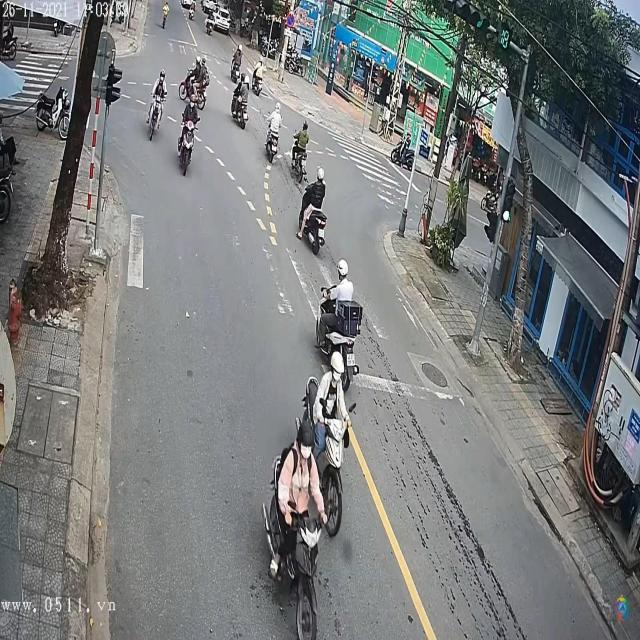motorcycle: (262, 448, 327, 640), (178, 70, 208, 113), (300, 211, 328, 255), (177, 112, 195, 174), (144, 88, 164, 141), (264, 117, 282, 167), (230, 86, 249, 131), (291, 138, 307, 184)
